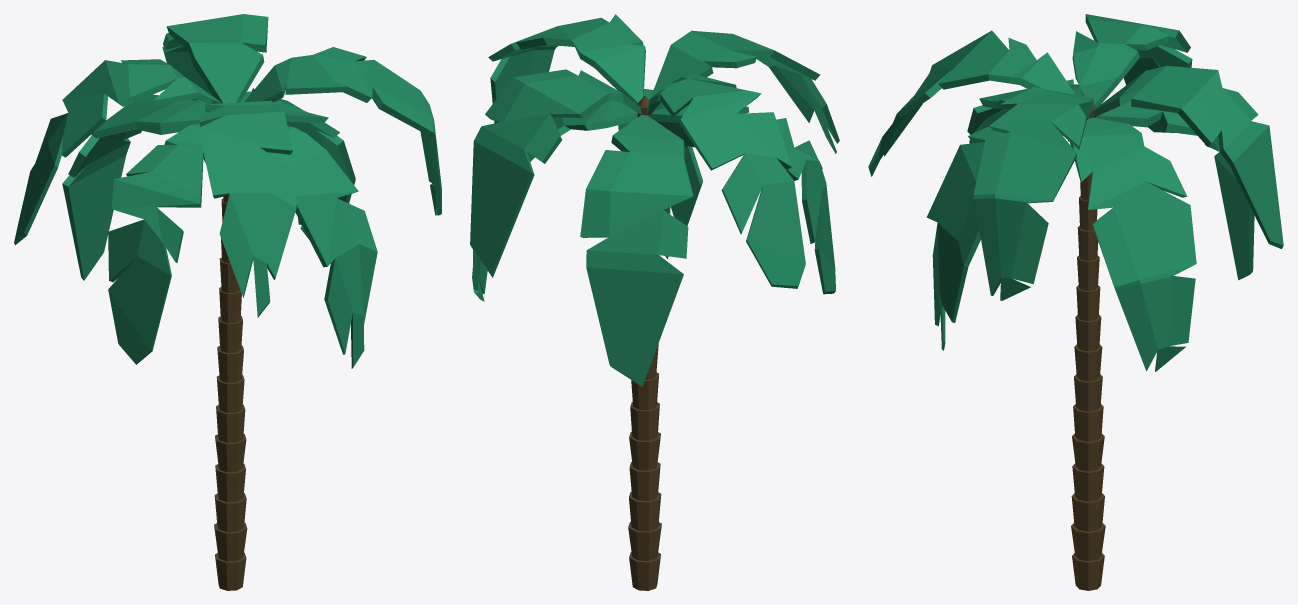
File: PalmTree.fbx
3 views of the same model, side by side, from view 1: azimuth 30°, elevation 25°; view 2: azimuth 150°, elevation 25°; view 3: azimuth 270°, elevation 25° (orthographic).
Visible parts, largest first — view 1: PalmTree; view 2: PalmTree; view 3: PalmTree.
Part boxes in pixels (left/top/right/bottom): PalmTree: left=14, top=14, right=441, bottom=590; PalmTree: left=470, top=14, right=839, bottom=590; PalmTree: left=868, top=14, right=1283, bottom=590.
Size of the model in its own units: 345 by 478 by 343.
